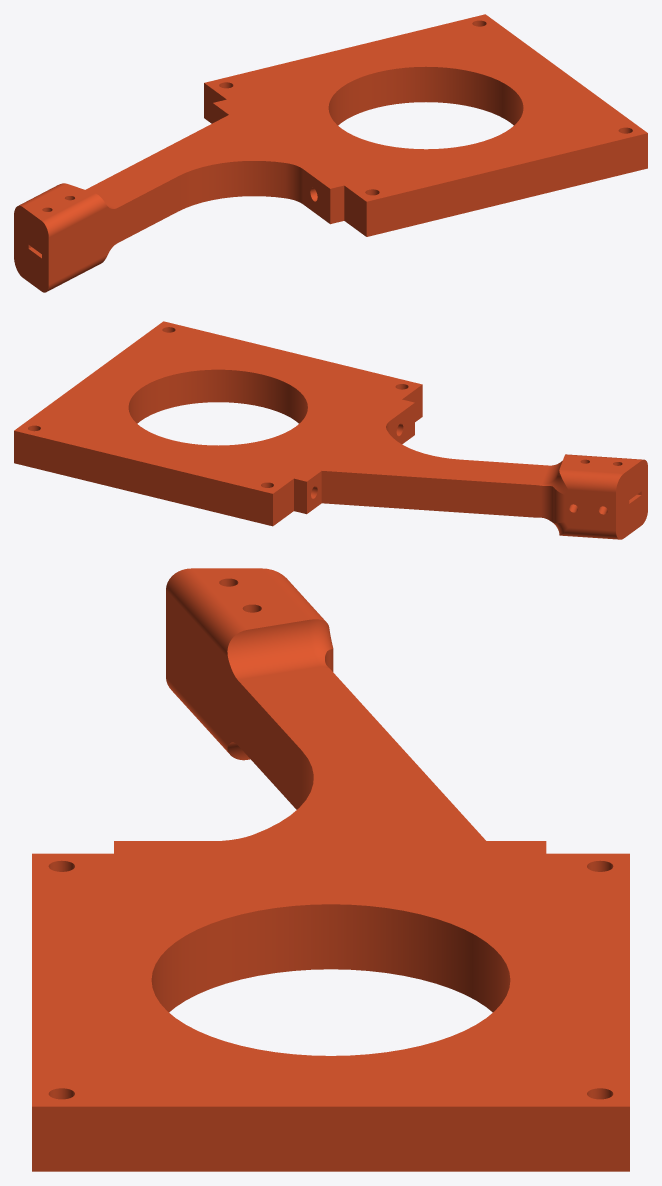
File: tool_holder.dae
3 views of the same model, one above another, from view 1: azimuth 30°, elevation 25°; view 2: azimuth 150°, elevation 25°; view 3: azimuth 270°, elevation 25° (orthographic). The views are drawn at different scales.
Parts seen in each view (by area): view 1: base, arm; view 2: base, arm; view 3: base, arm.
Part boxes in pixels (x1=…): base: x1=204, y1=14, x2=647, y2=236; arm: x1=14, y1=99, x2=344, y2=292; base: x1=14, y1=321, x2=422, y2=526; arm: x1=294, y1=399, x2=647, y2=539; base: x1=32, y1=853, x2=629, y2=1171; arm: x1=114, y1=568, x2=546, y2=853.
Size of the model in its own units: 0.1 by 0.05 by 0.012.
